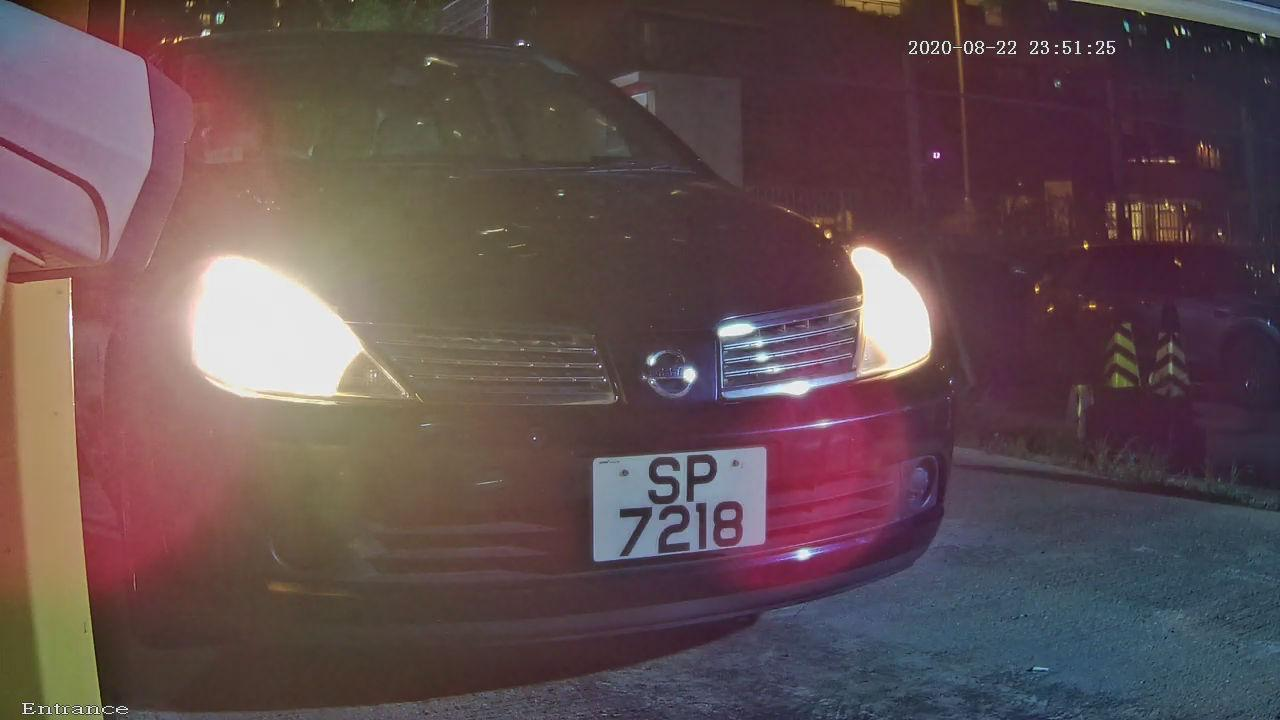License Plate: (566, 431, 783, 573)
